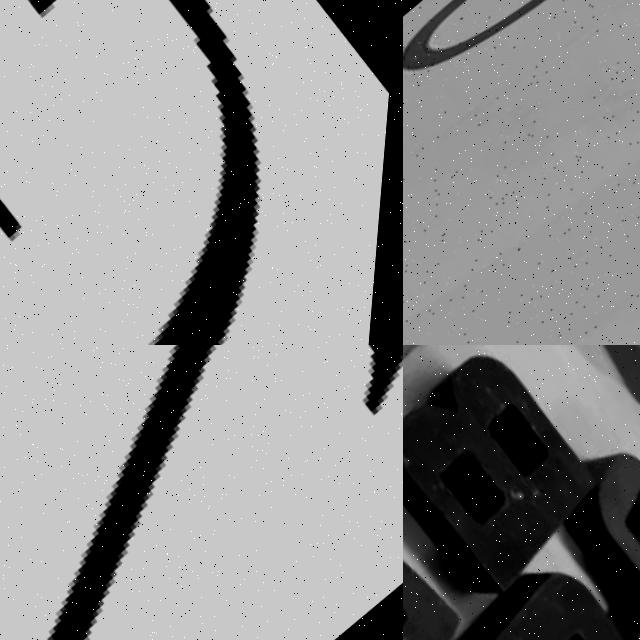0: (403, 0, 640, 129)
7: (0, 345, 403, 640)
A: (426, 547, 640, 640)
B: (403, 345, 637, 630)
D: (403, 466, 515, 640)
G: (0, 0, 403, 345)
P: (512, 426, 640, 640)
